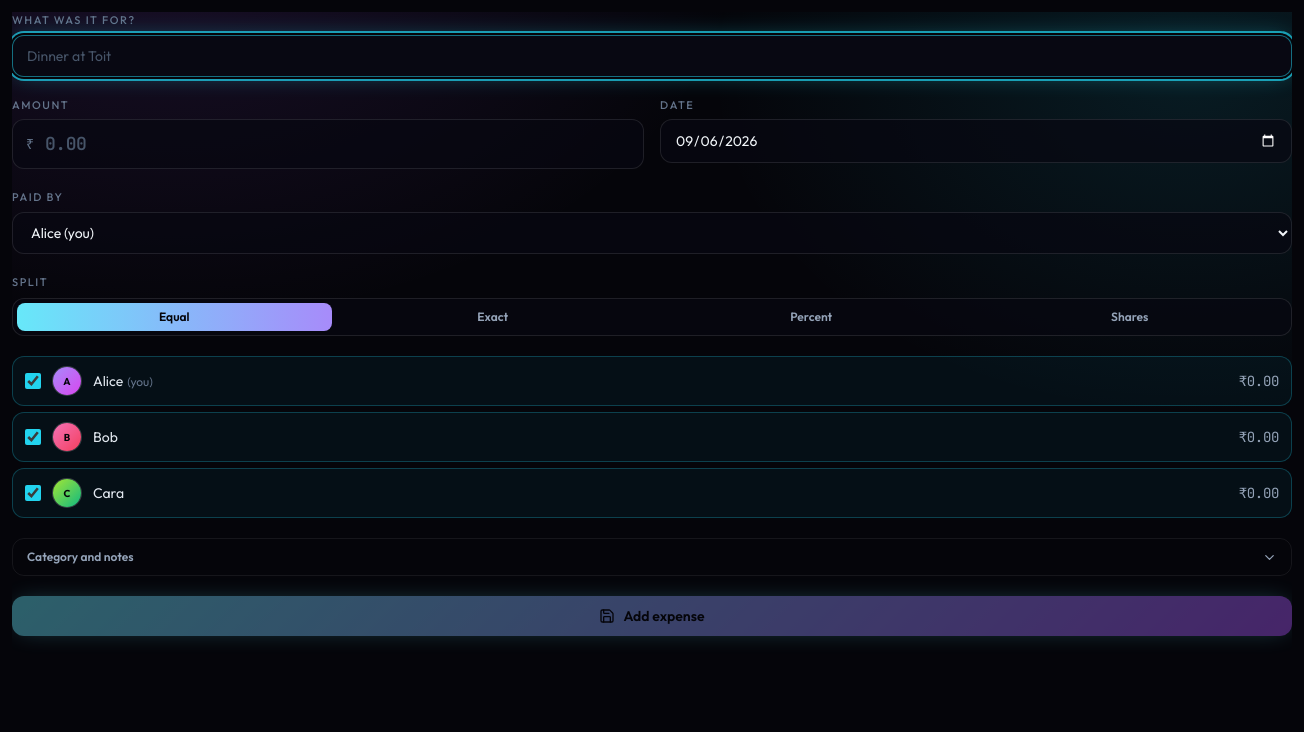
Test: ExpenseForm › split-total validation › blocks a percentage split that does not reach 100
Type "Rent" into the field labelled "What was it for?". click: (652, 56)
box: [12,34,1292,76]
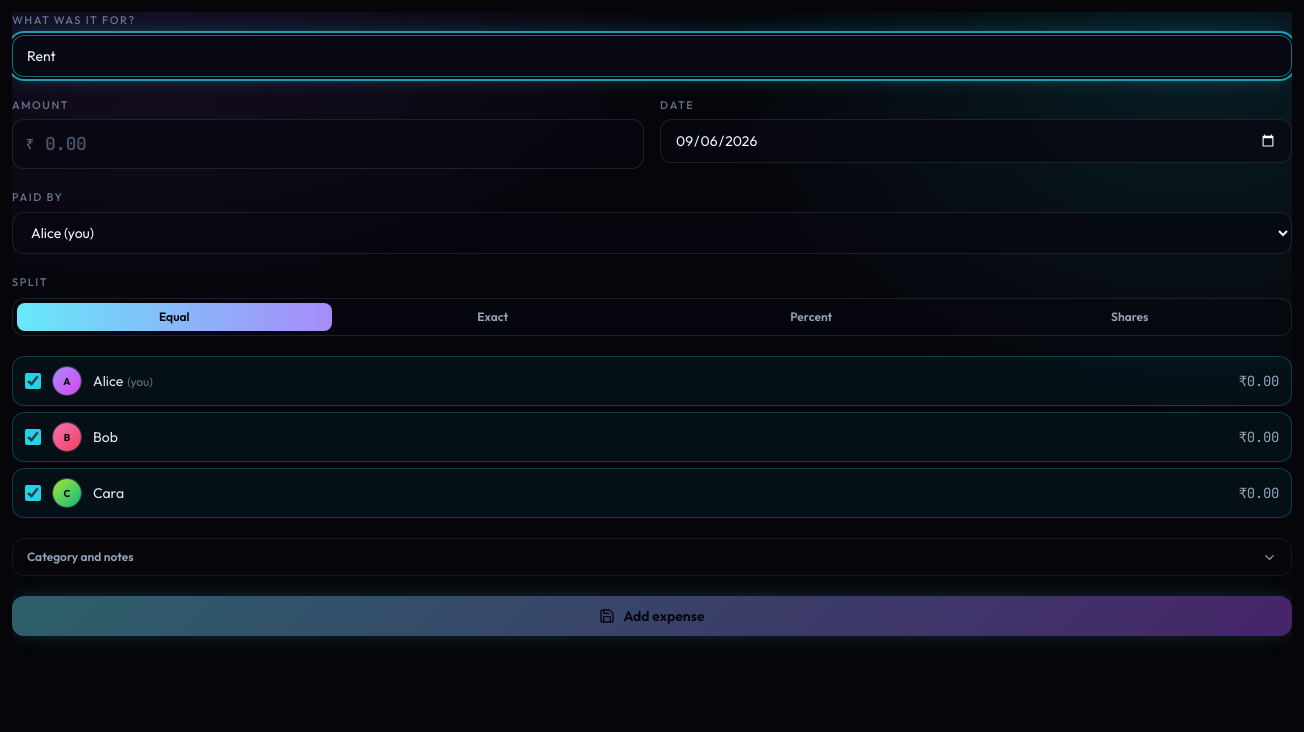
Type "3000" into the field labelled "Amount". click: (328, 144)
box: [12,119,644,169]
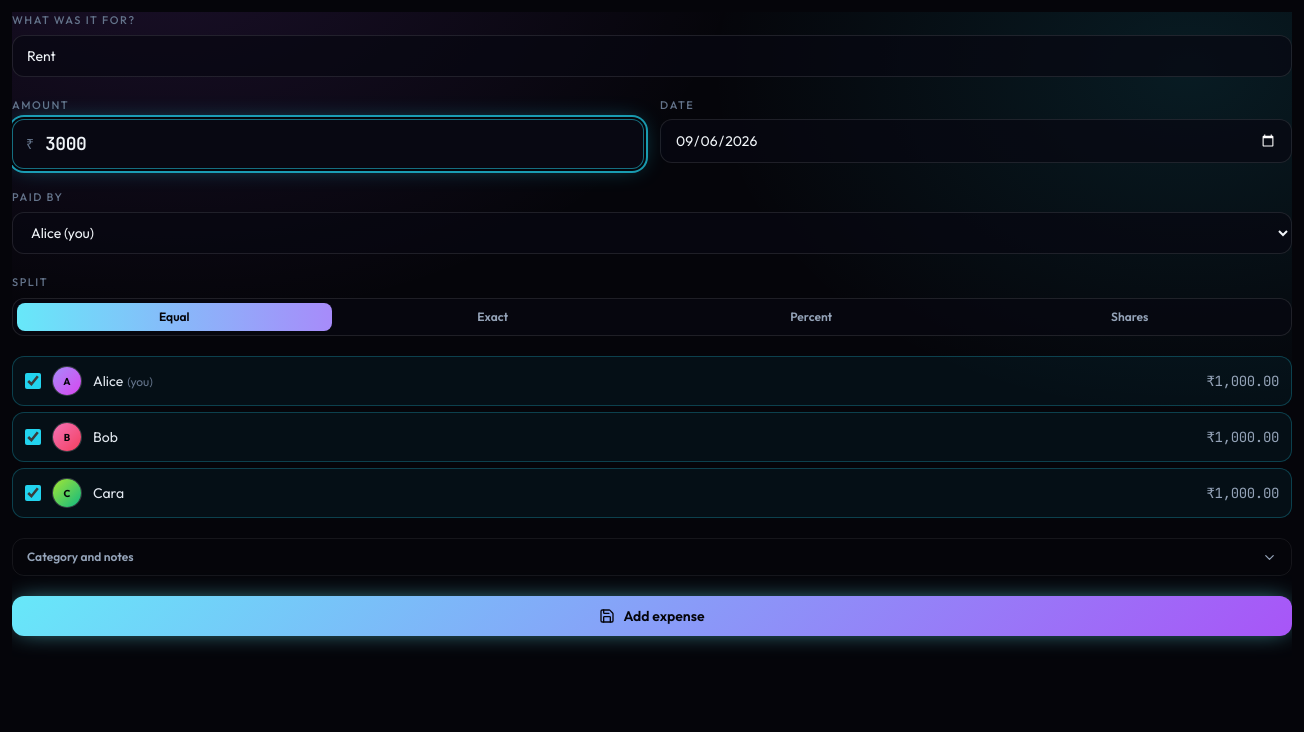
Click the button "Percent". click: (811, 317)
box: [654,303,968,331]
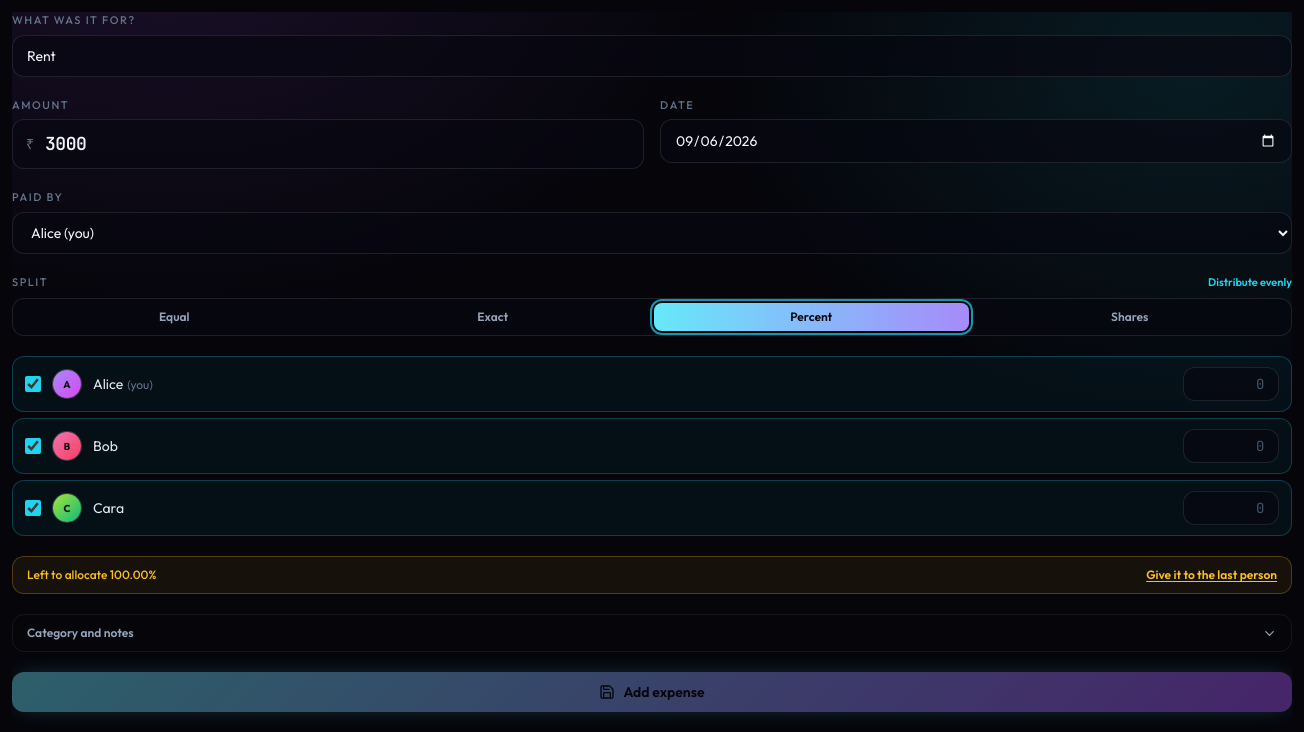
Type "50" into the field named "Alice %". click: (1231, 384)
box: [1183,367,1279,401]
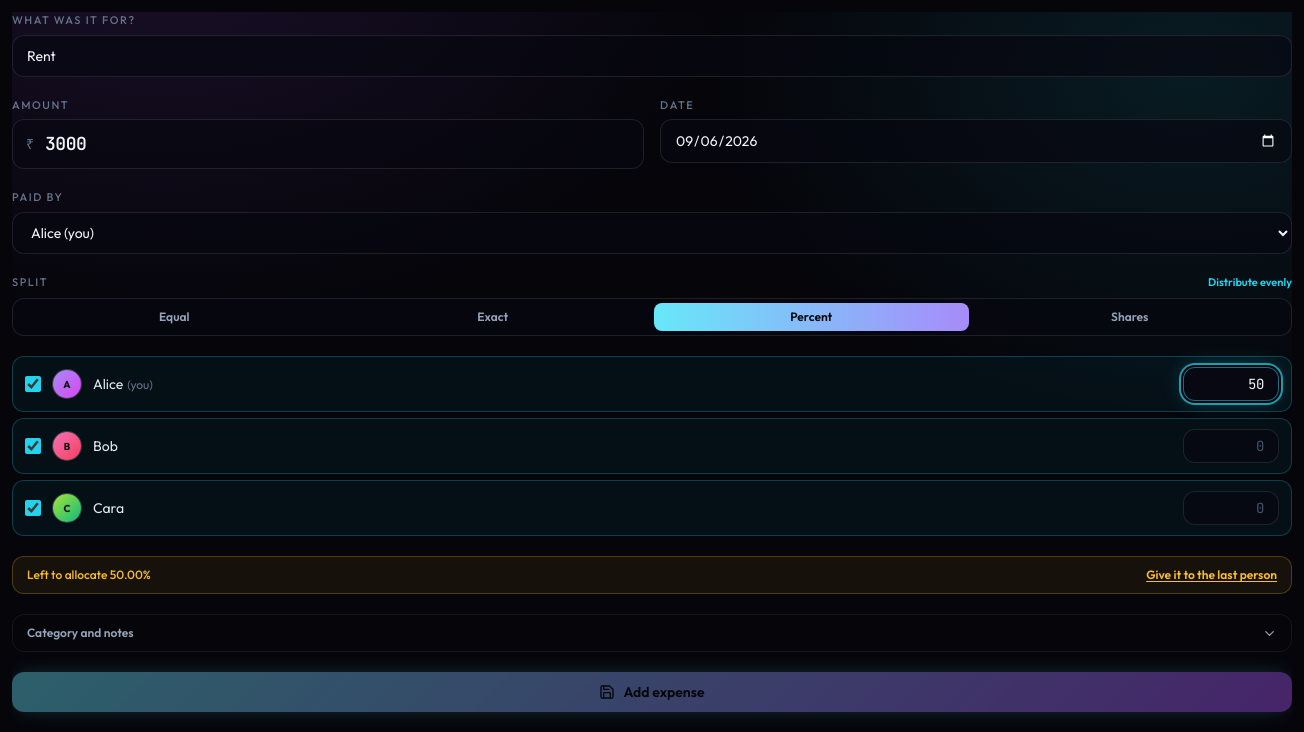
Type "30" into the field named "Bob %". click: (1231, 446)
box: [1183,429,1279,463]
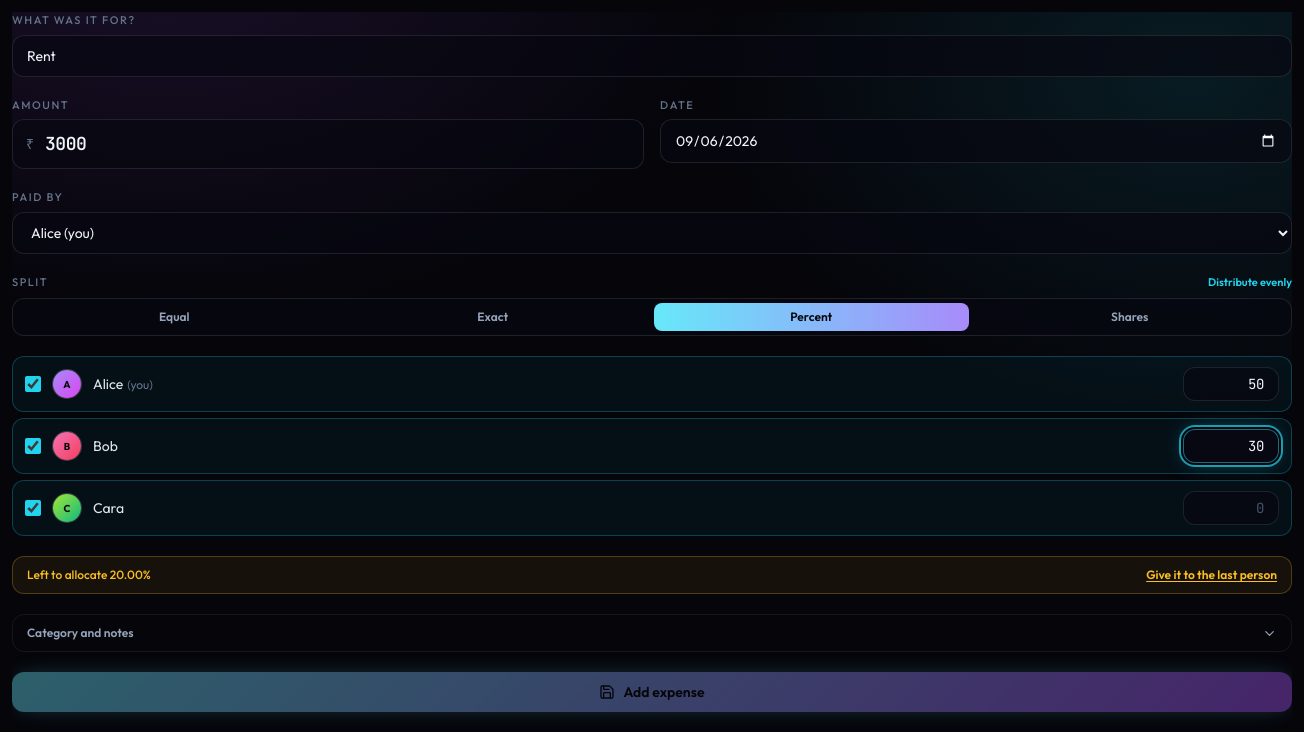
Result: the button "Add expense" is disabled at [12,672,1292,712]
Result: the text "Left to allocate 20.00%" is shown at [27,567,151,583]
